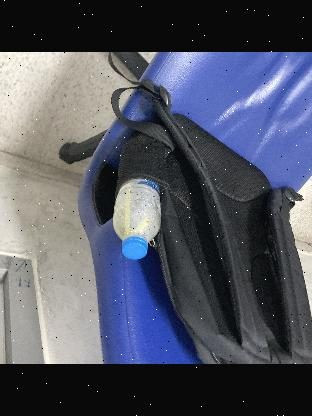Plastic Bottle: (111, 174, 163, 262)
